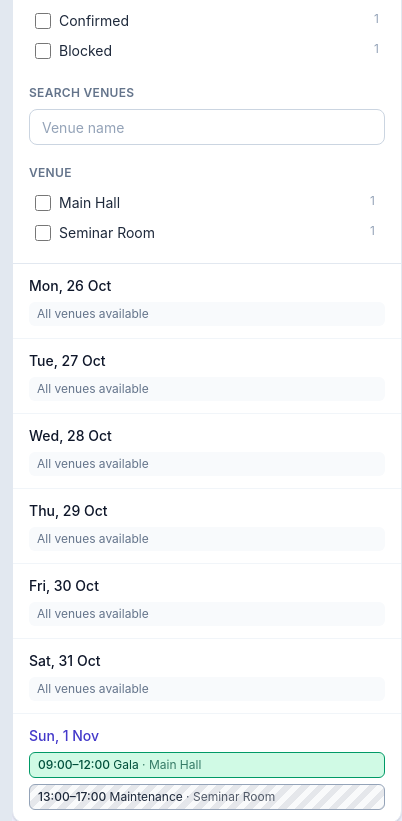
Test case: US-16 AC-4: a booked slot opens its details › shows the event name, organiser, time and attendance of the clicked booking
(page scrolled)
Click the button "09:00–12:00 Gala · Main Hall": click(67, 764) [29,752,385,778]
(page scrolled)
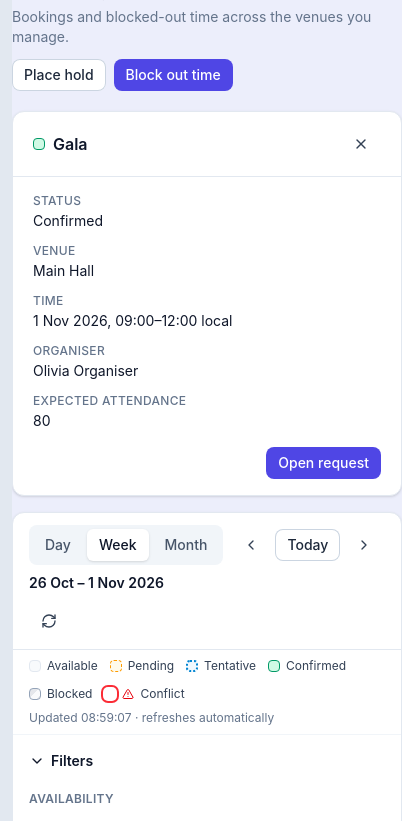
Result: the heading "Gala" is shown at [53,132,88,156]
Result: the text "Olivia Organiser" is shown at [33,362,138,379]
Result: the text "Expected attendance" is shown at [33,393,186,408]
